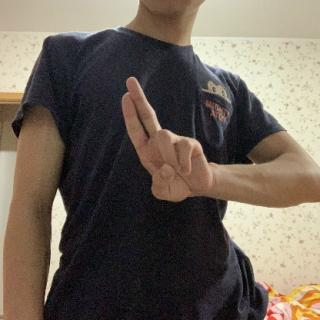TA: (118, 71, 215, 209)
